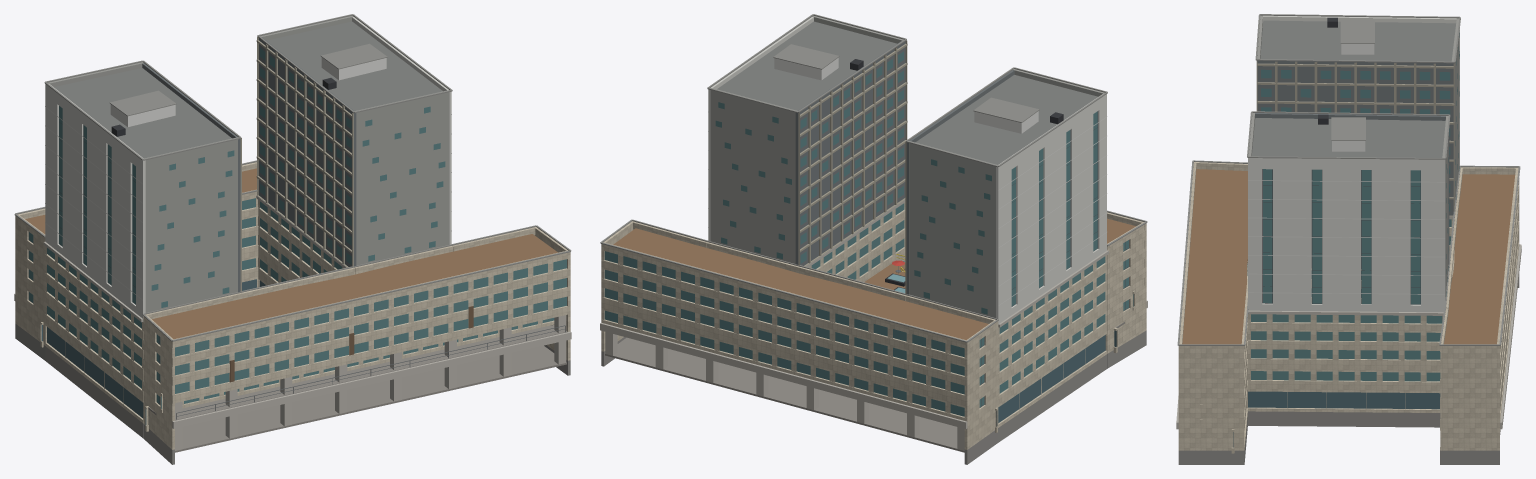
3 renders of one model, left to right at view 1: azimuth 30°, elevation 25°; view 2: azimuth 150°, elevation 25°; view 3: azimuth 270°, elevation 25°, orthographic. The views are drawn at different scales.
Visible parts, largest first — view 1: dorm__stone-base-wall, dorm__gray-panel-wall, dorm__glass, dorm__white-panel-wall, dorm__roof, dorm__floor-slab, dorm__deck-wood, dorm__cell-plate-wall, dorm__grid-concrete-wall, dorm__roof-edge, dorm__cell-glass, dorm__granite-band-wall (+5 smaller); view 2: dorm__stone-base-wall, dorm__gray-panel-wall, dorm__glass, dorm__white-panel-wall, dorm__roof, dorm__cell-plate-wall, dorm__deck-wood, dorm__grid-concrete-wall, dorm__floor-slab, dorm__roof-edge, dorm__cell-glass, dorm__granite-band-wall (+5 smaller); view 3: dorm__stone-base-wall, dorm__white-panel-wall, dorm__deck-wood, dorm__roof, dorm__glass, dorm__cell-plate-wall, dorm__roof-edge, dorm__plinth-stone-wall, dorm__grid-concrete-wall, dorm__lobby-glass, dorm__white-band, dorm__cell-glass (+3 smaller).
Boxes of the visible parts, bbox=[...] form: dorm__stone-base-wall: bbox=[15, 162, 570, 449]; dorm__gray-panel-wall: bbox=[47, 15, 449, 312]; dorm__glass: bbox=[29, 106, 566, 408]; dorm__white-panel-wall: bbox=[45, 17, 451, 318]; dorm__roof: bbox=[54, 21, 442, 158]; dorm__floor-slab: bbox=[148, 325, 567, 452]; dorm__deck-wood: bbox=[25, 168, 557, 339]; dorm__cell-plate-wall: bbox=[142, 37, 356, 292]; dorm__grid-concrete-wall: bbox=[240, 37, 353, 291]; dorm__roof-edge: bbox=[14, 14, 571, 341]; dorm__cell-glass: bbox=[151, 48, 445, 307]; dorm__granite-band-wall: bbox=[14, 195, 571, 428]; dorm__stone-base-wall: bbox=[601, 203, 1146, 449]; dorm__gray-panel-wall: bbox=[710, 15, 1104, 317]; dorm__glass: bbox=[604, 111, 1133, 416]; dorm__white-panel-wall: bbox=[708, 17, 1106, 323]; dorm__roof: bbox=[717, 21, 1098, 164]; dorm__cell-plate-wall: bbox=[795, 40, 1014, 294]; dorm__deck-wood: bbox=[613, 218, 1135, 340]; dorm__grid-concrete-wall: bbox=[798, 40, 907, 293]; dorm__floor-slab: bbox=[605, 322, 1124, 452]; dorm__roof-edge: bbox=[600, 14, 1147, 342]; dorm__cell-glass: bbox=[715, 51, 991, 314]; dorm__granite-band-wall: bbox=[600, 200, 1147, 429]; dorm__stone-base-wall: bbox=[1178, 162, 1519, 453]; dorm__white-panel-wall: bbox=[1248, 15, 1459, 312]; dorm__deck-wood: bbox=[1182, 169, 1515, 344]; dorm__roof: bbox=[1252, 20, 1455, 157]; dorm__glass: bbox=[1251, 169, 1451, 381]; dorm__cell-plate-wall: bbox=[1255, 60, 1454, 268]; dorm__roof-edge: bbox=[1177, 14, 1520, 345]; dorm__plinth-stone-wall: bbox=[1178, 274, 1519, 464]; dorm__grid-concrete-wall: bbox=[1256, 61, 1454, 216]; dorm__lobby-glass: bbox=[1233, 264, 1440, 447]; dorm__white-band: bbox=[1248, 44, 1445, 294]; dorm__cell-glass: bbox=[1261, 32, 1459, 296].
Bounding box in the file's own units: 65.81 × 45.72 × 51.9.
27 materials, 1 textured.
